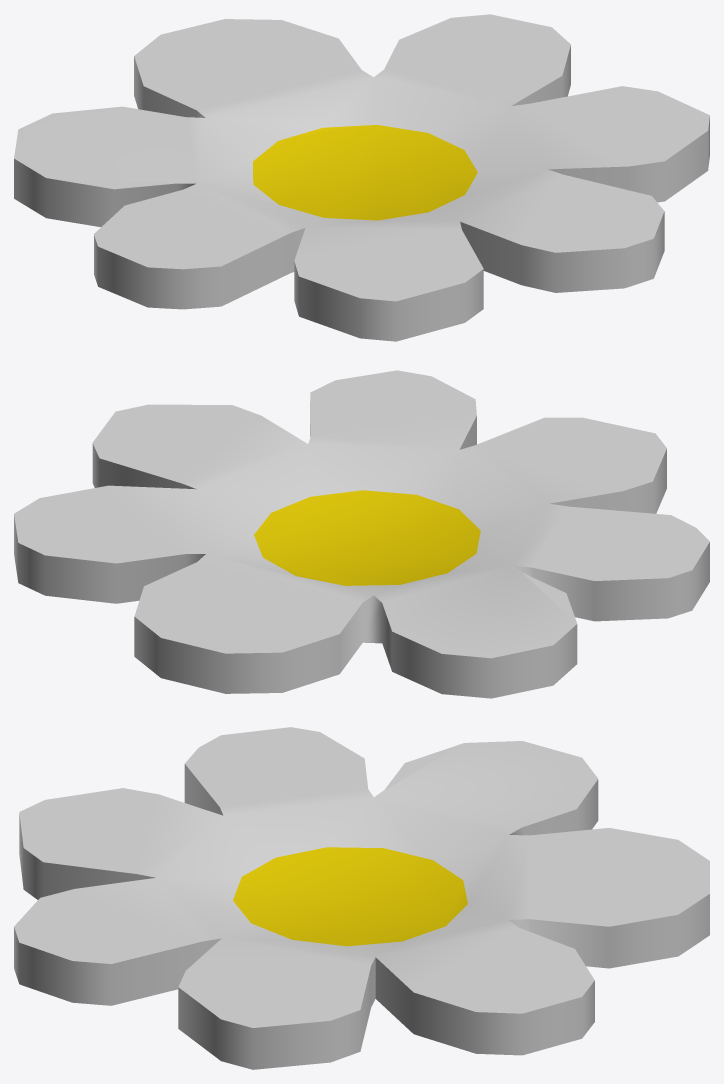
The model's file is flower1.fbx.
3 renders of one model, top to bottom at view 1: azimuth 30°, elevation 25°; view 2: azimuth 150°, elevation 25°; view 3: azimuth 270°, elevation 25°, orthographic. The views are drawn at different scales.
Visible parts, largest first — view 1: flower1; view 2: flower1; view 3: flower1.
Part boxes in pixels (x1,y1,x2,y2): flower1: (14, 14, 709, 341); flower1: (14, 370, 709, 698); flower1: (14, 727, 709, 1069).
Size of the model in its own units: 0.1621 by 0.0105 by 0.1584.
